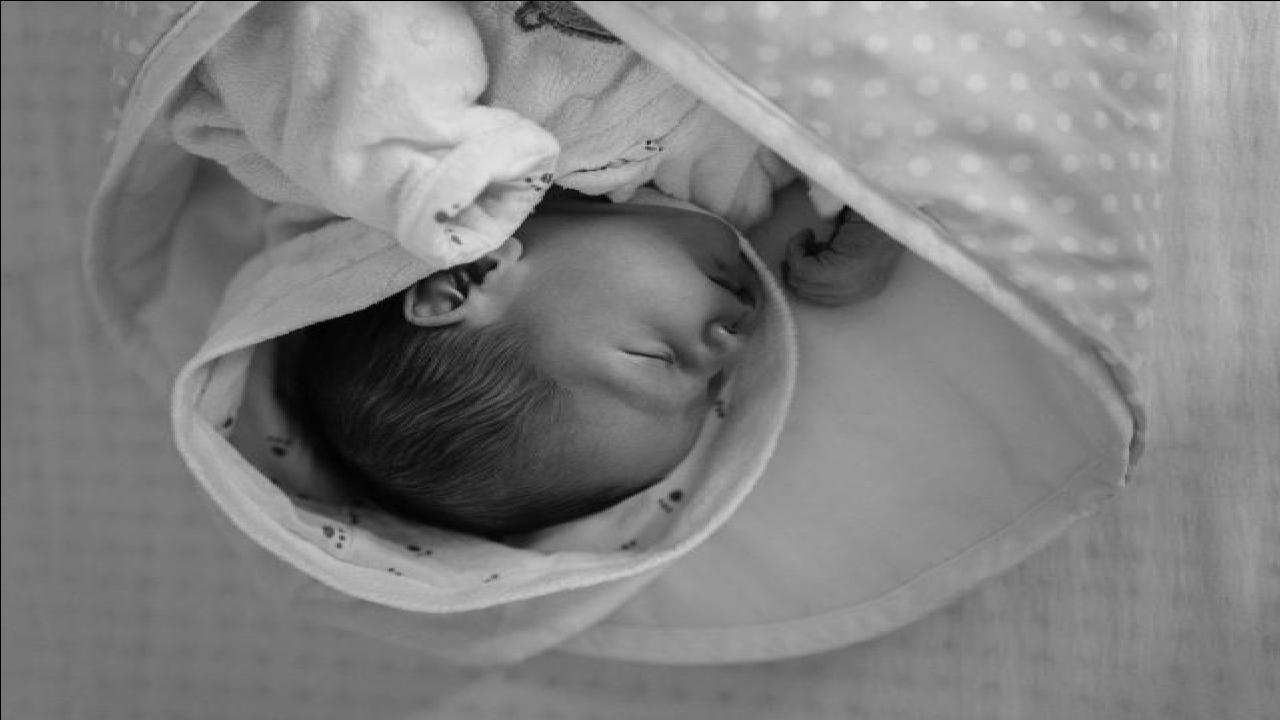hand: (780, 226, 895, 312)
